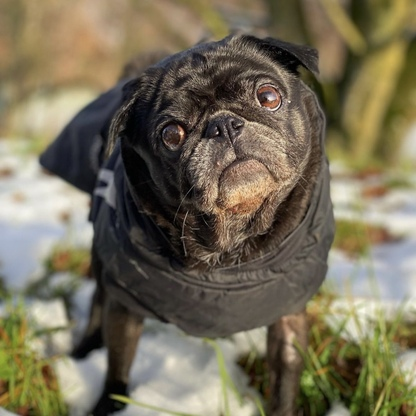Pug: (63, 26, 342, 416)
